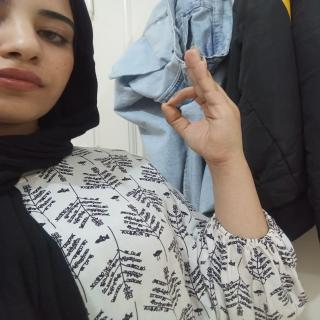Space: (152, 47, 248, 170)
